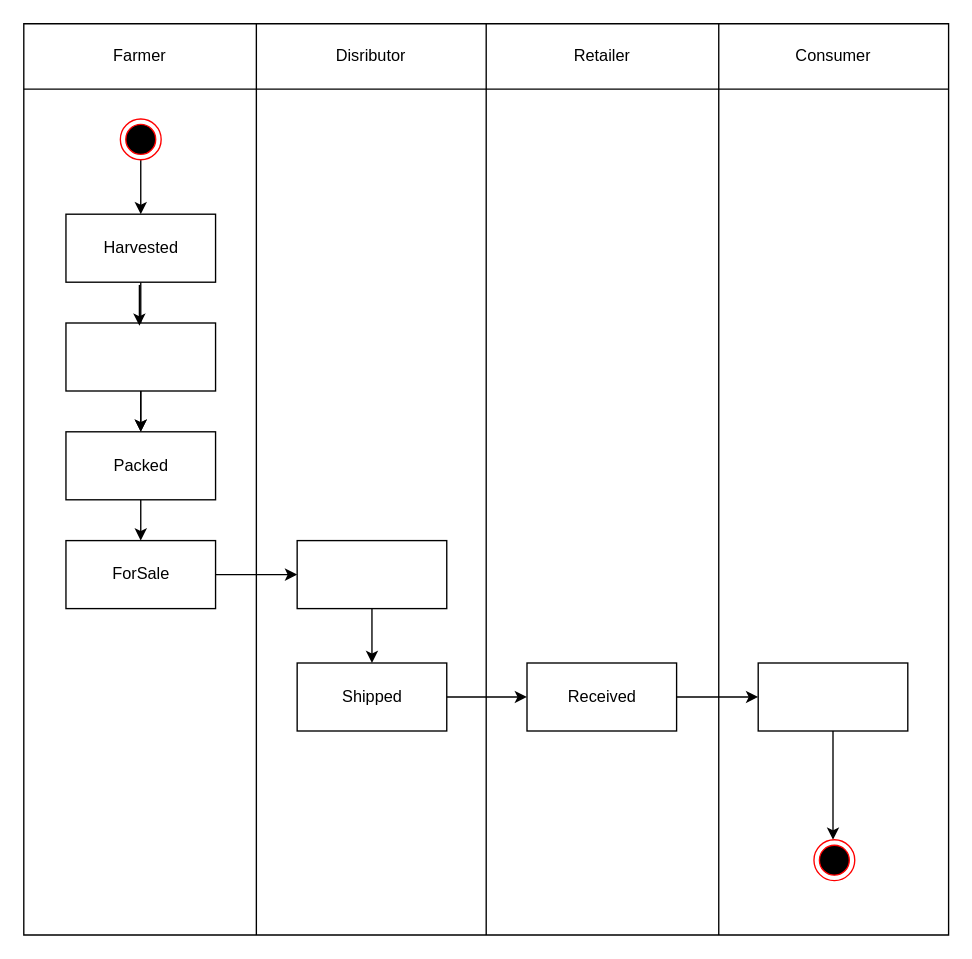
This 972x959 diagram has some shape labels left out. Each missing label, with the centre of its shape:
Processed: the point at 140,356
Purchased: the point at 832,696
Sold: the point at 371,574
